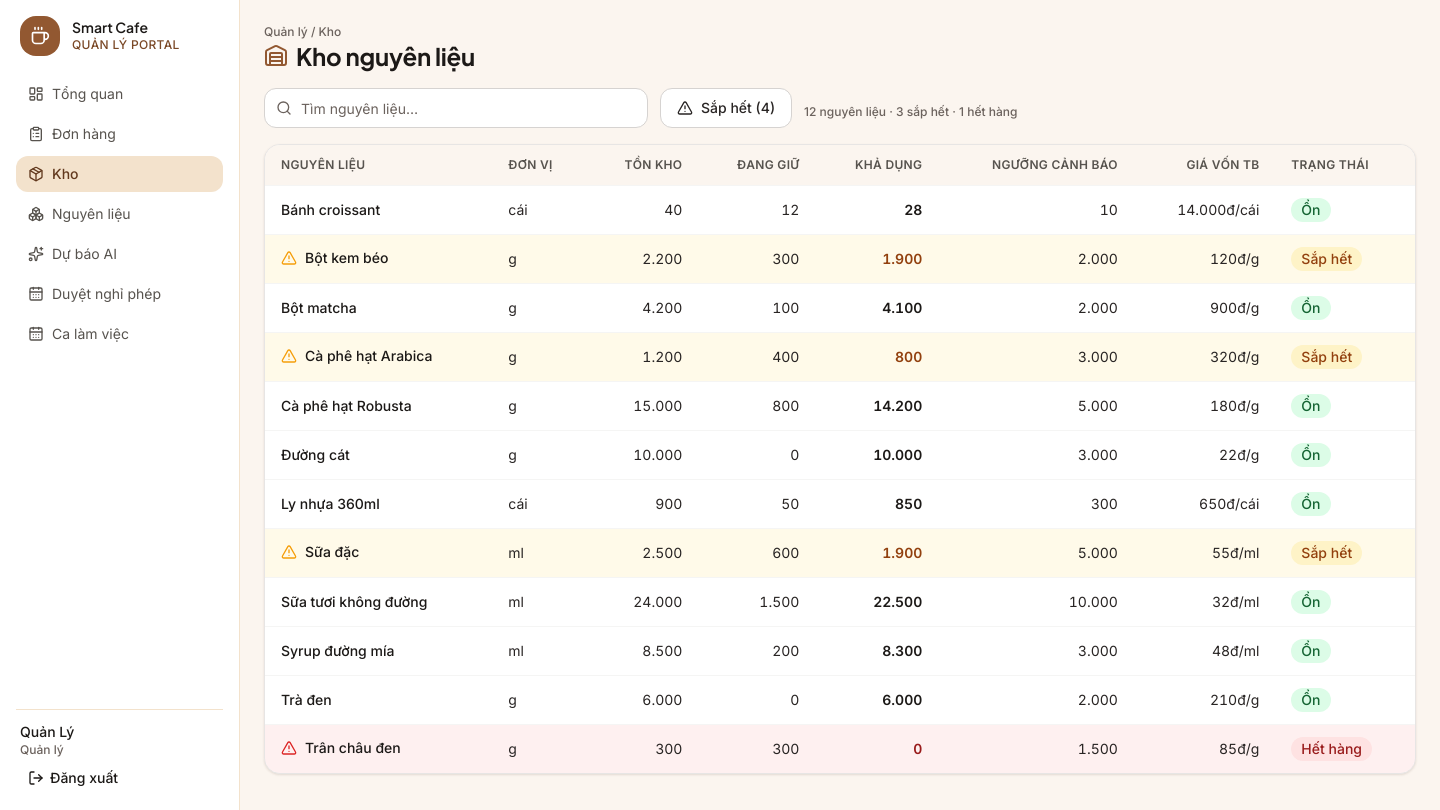
/manager/inventory › tìm kiếm không dấu, toggle "Sắp hết" và trạng thái không có kết quả
Type "ca phe" into the field labelled "Tìm nguyên liệu" at (456, 108), box x1=264 y1=88 x2=648 y2=128
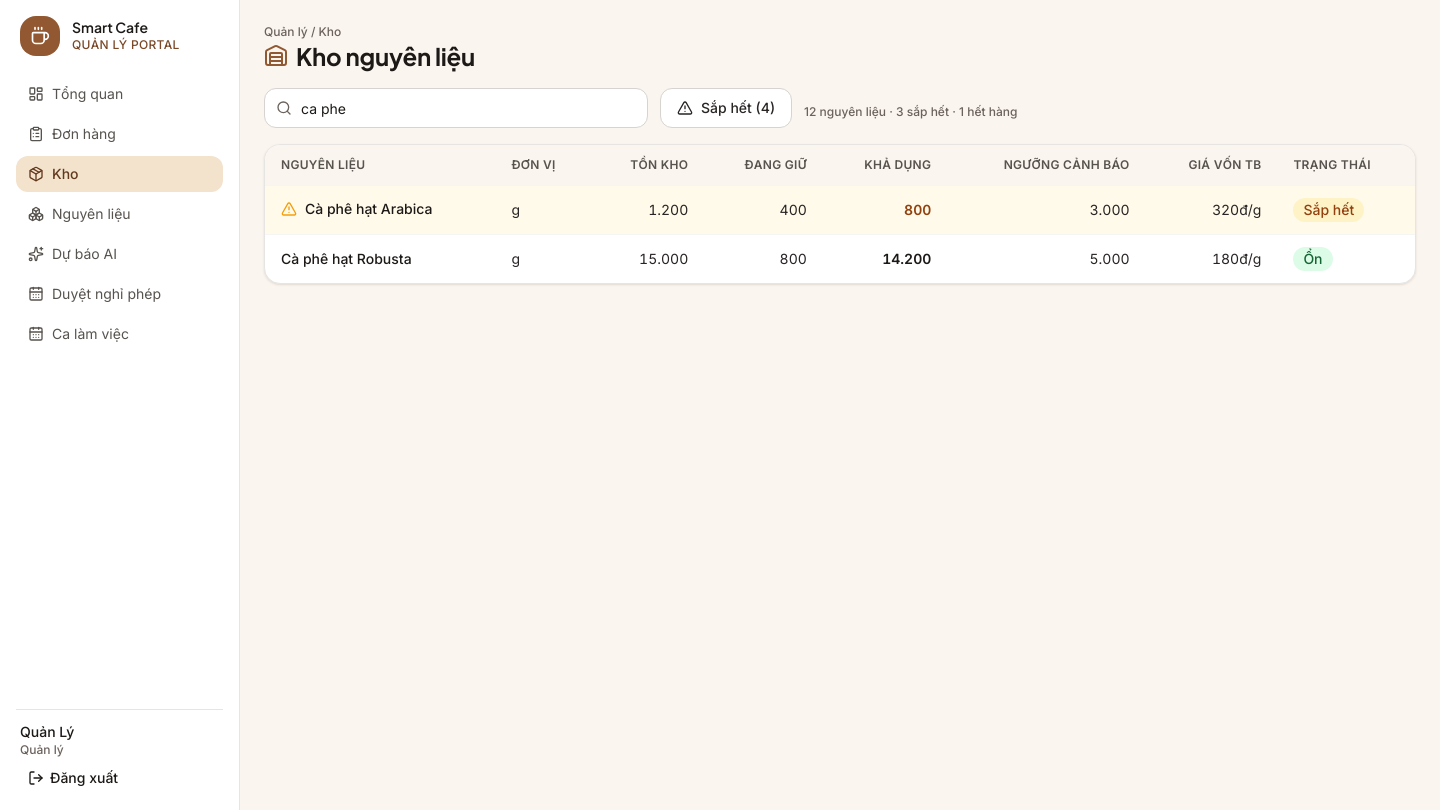
Expected: the number of rows is 3, x1=265 y1=145 x2=1415 y2=185; x1=265 y1=186 x2=1415 y2=234; x1=265 y1=234 x2=1415 y2=283
Clear the field named "Tìm nguyên liệu" at (456, 108), box x1=264 y1=88 x2=648 y2=128
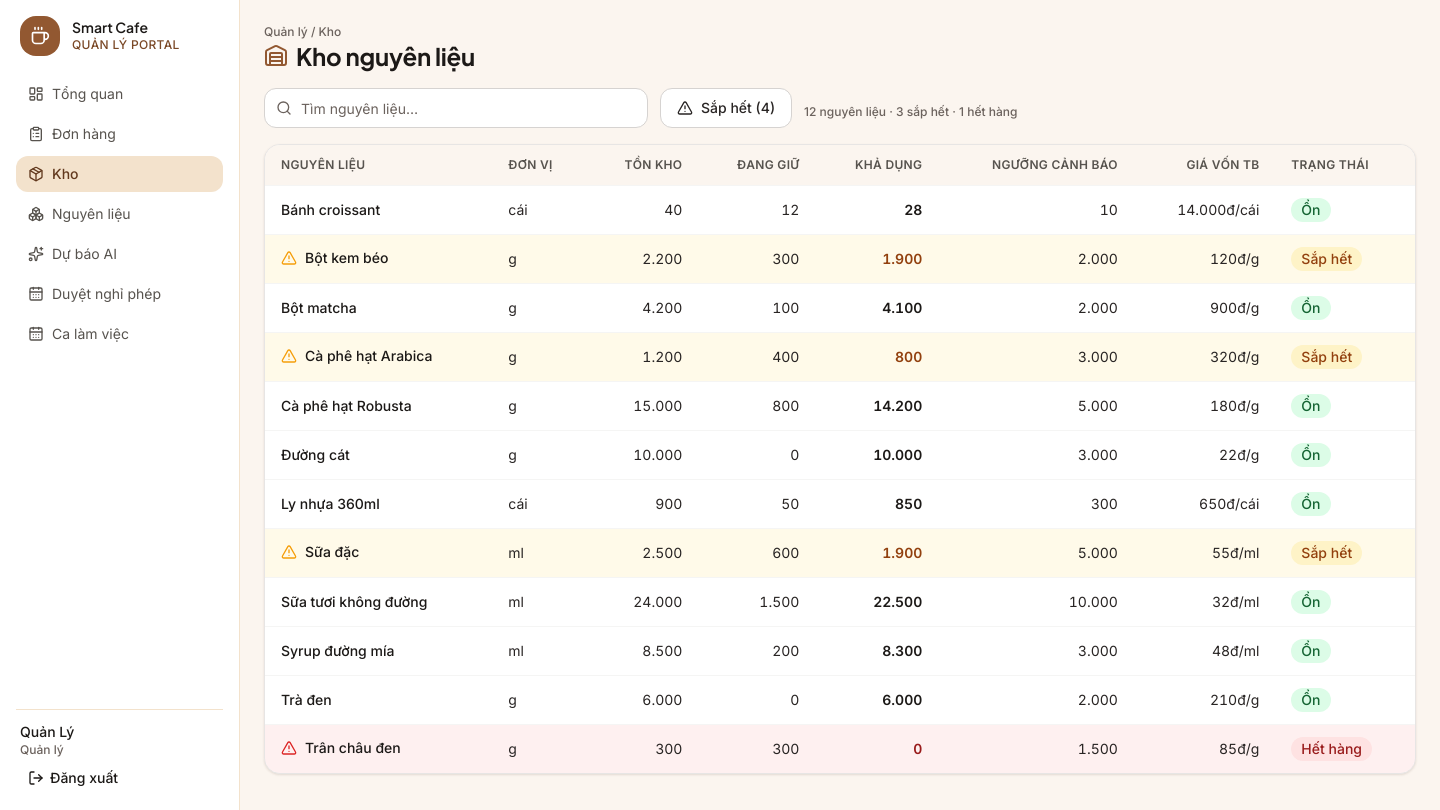
Click the button "Sắp hết (4)" at (726, 108), box x1=660 y1=88 x2=792 y2=128
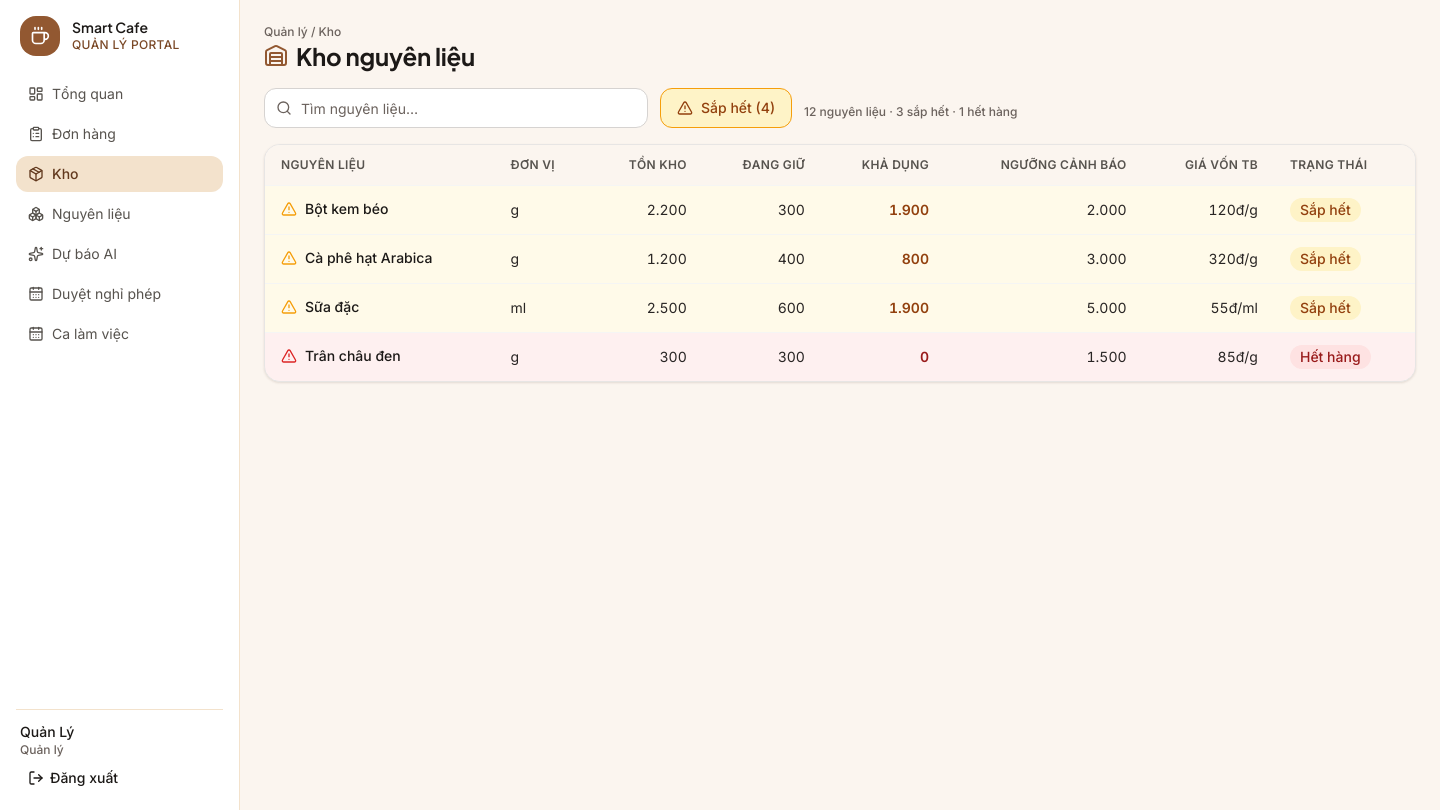
Type "khong co thu nay" into the field labelled "Tìm nguyên liệu" at (456, 108), box x1=264 y1=88 x2=648 y2=128
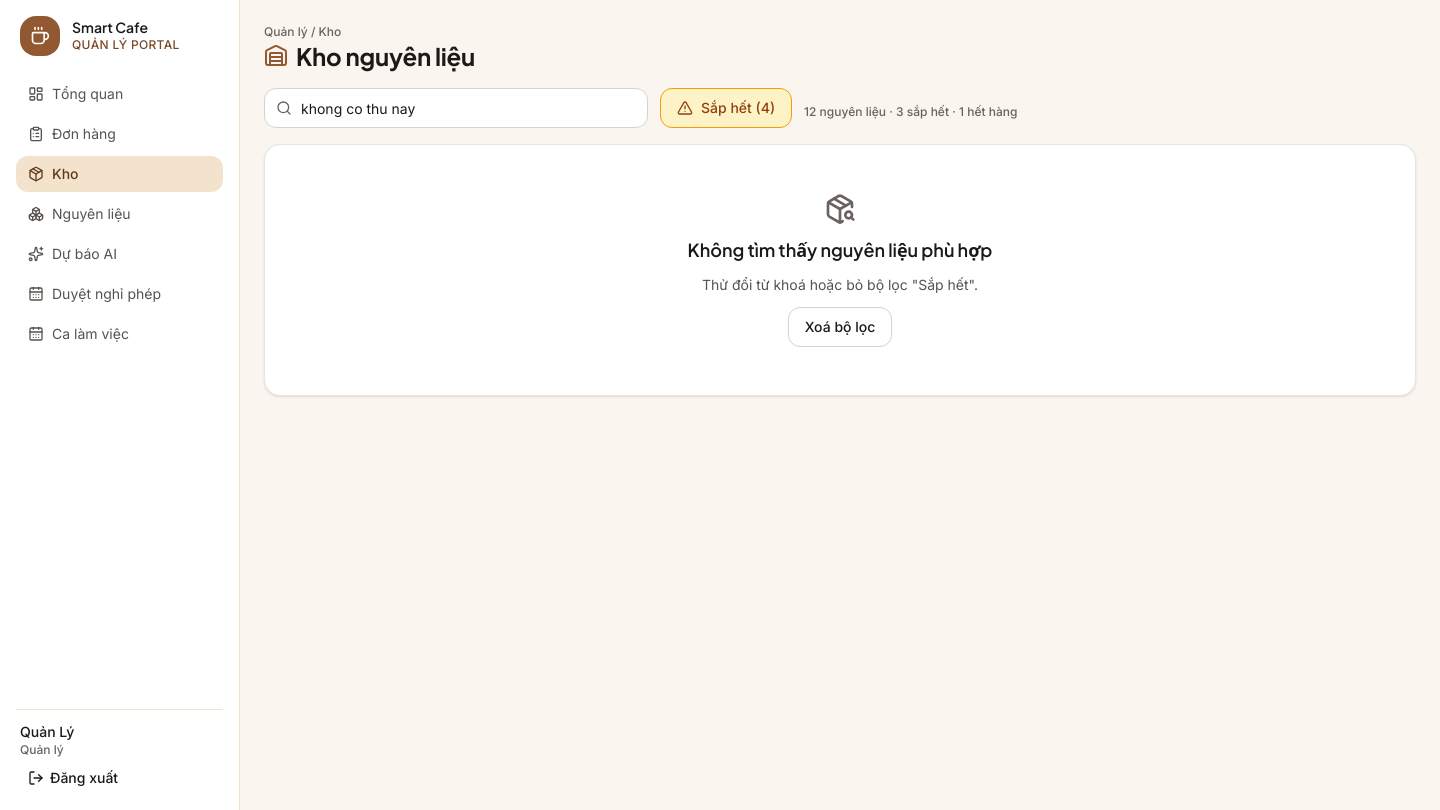
Now the heading "Không tìm thấy nguyên liệu phù hợp" is shown, box x1=688 y1=237 x2=992 y2=263
Click the button "Xoá bộ lọc" at (840, 327), box x1=788 y1=307 x2=892 y2=347
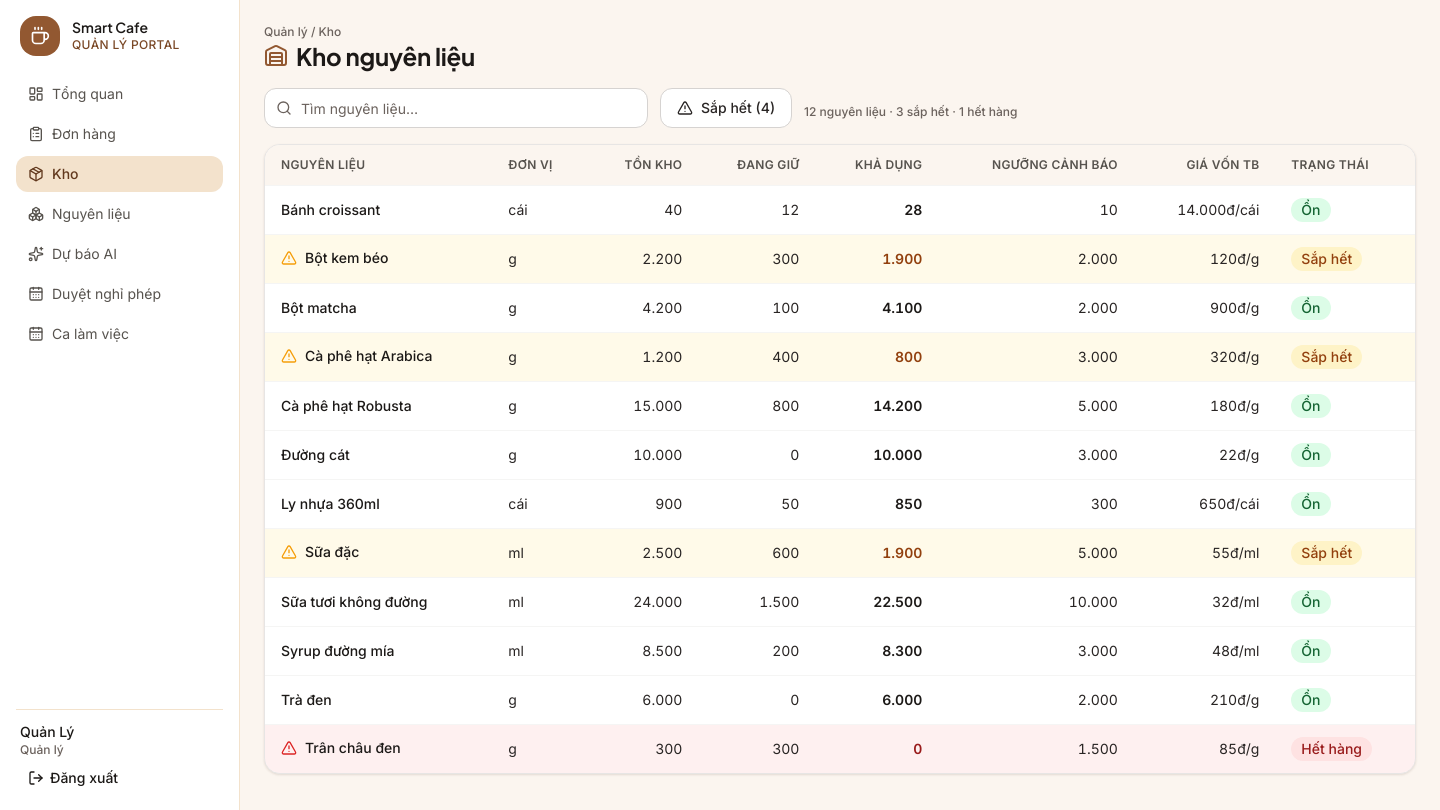
Now the number of rows is 13
